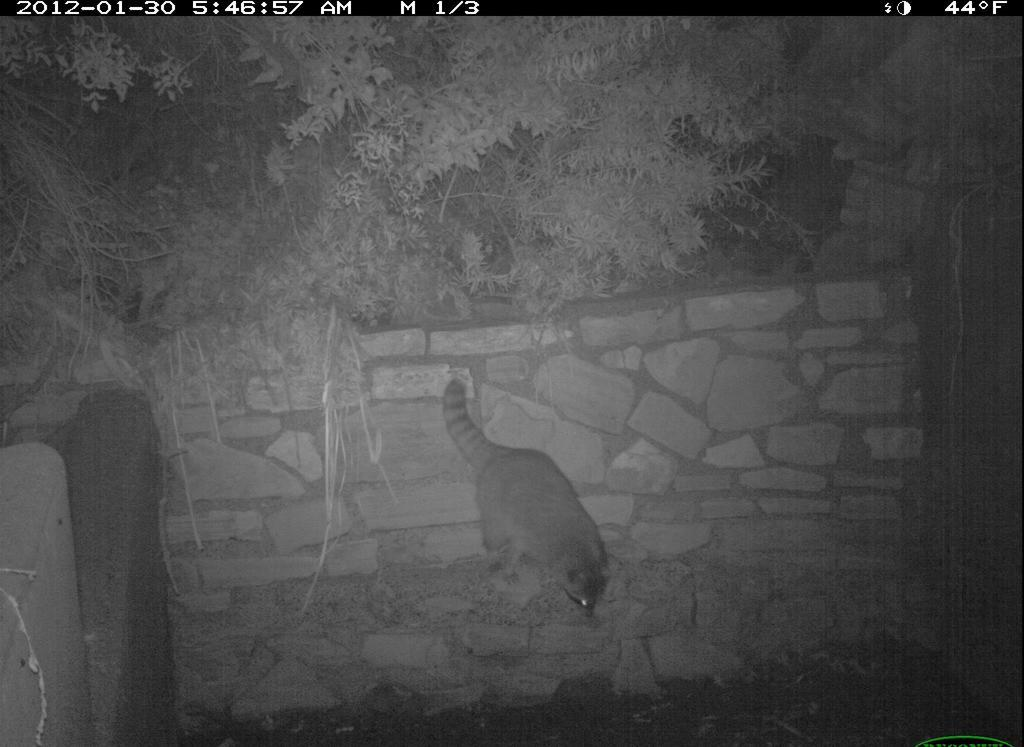raccoon: (422, 372, 634, 630)
